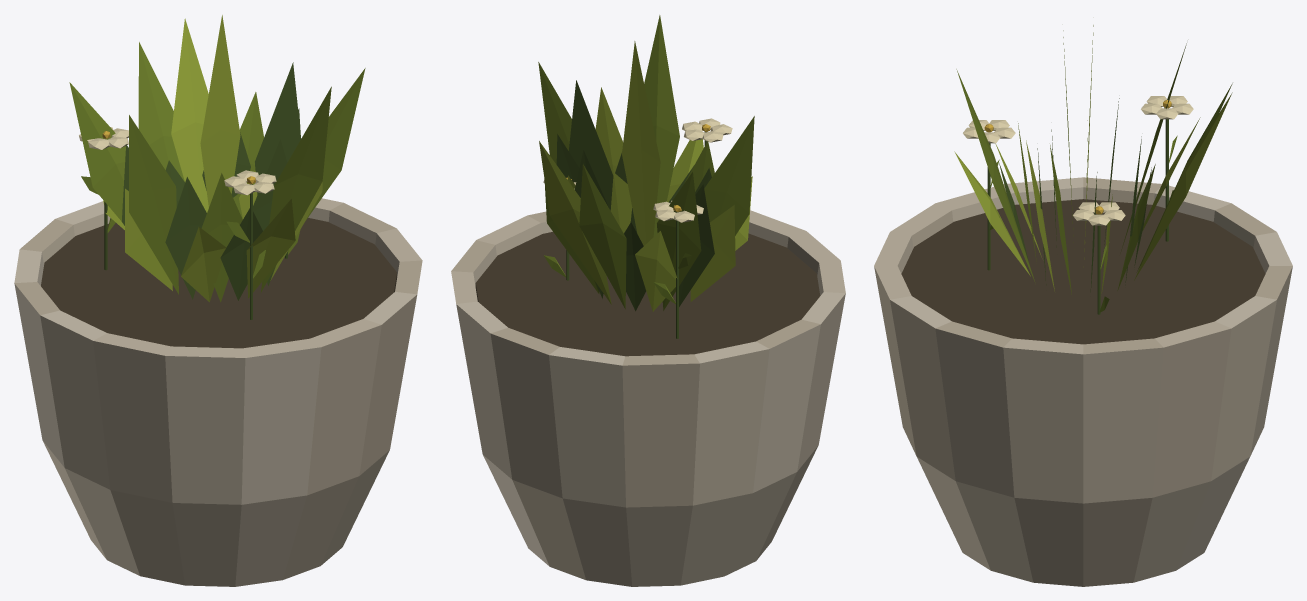
Rendered from planter_pot.glb.
3 renders of one model, left to right at view 1: azimuth 30°, elevation 25°; view 2: azimuth 150°, elevation 25°; view 3: azimuth 270°, elevation 25°, orthographic. The views are drawn at different scales.
Visible parts, largest first — view 1: body; view 2: body; view 3: body.
Part boxes in pixels (x1=…): body: x1=14, y1=15, x2=422, y2=586; body: x1=451, y1=15, x2=845, y2=586; body: x1=874, y1=25, x2=1292, y2=586.
Bounding box in the file's own units: 0.8 × 1.1 × 0.8.
